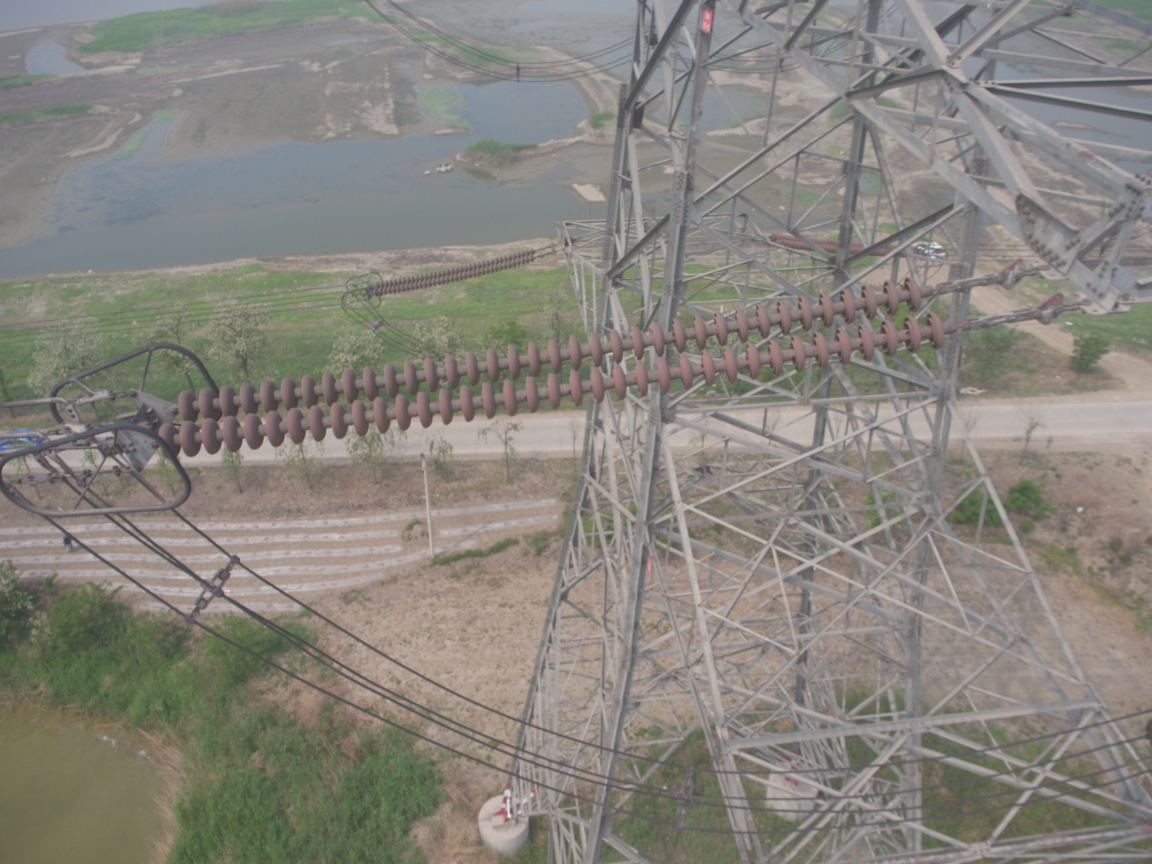insulator: (144, 275, 987, 462)
